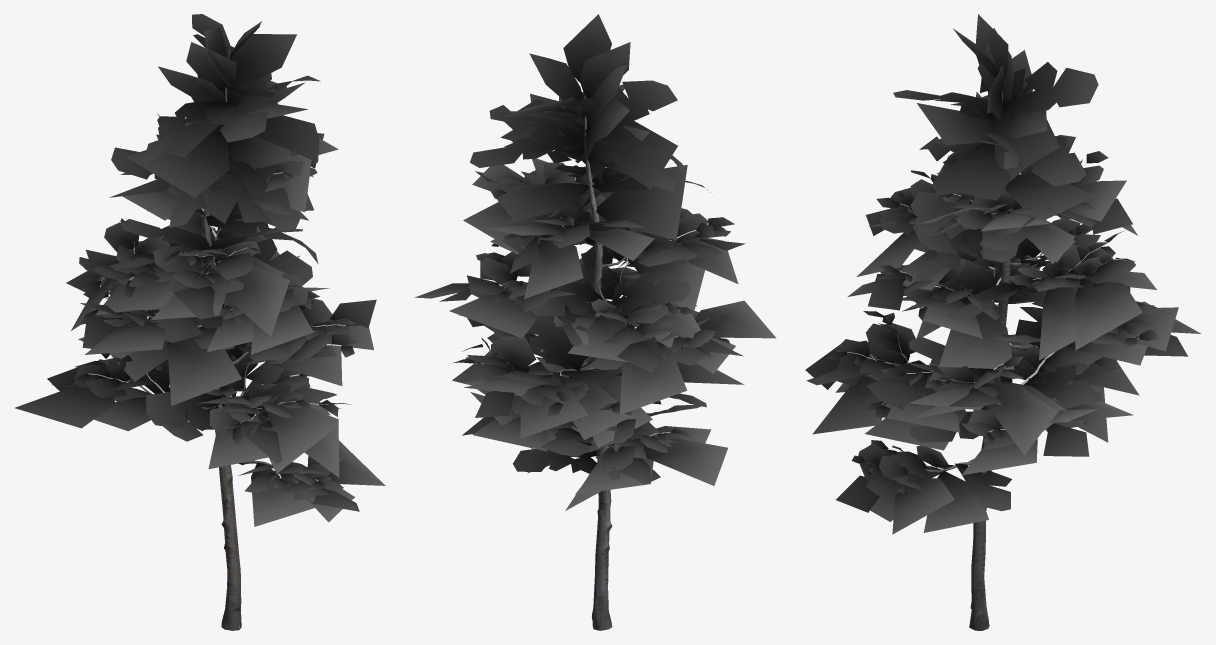
Rendered from beech_tree_01_s.FBX.
3 views of the same model, side by side, from view 1: azimuth 30°, elevation 25°; view 2: azimuth 150°, elevation 25°; view 3: azimuth 270°, elevation 25° (orthographic). The views are drawn at different scales.
Parts seen in each view (by area): view 1: beech_tree_01_leaves_LOD0, beech_tree_01_LOD0; view 2: beech_tree_01_leaves_LOD0, beech_tree_01_LOD0; view 3: beech_tree_01_leaves_LOD0, beech_tree_01_LOD0.
Boxes of the visible parts, x1,y1,x2,y2 form: beech_tree_01_leaves_LOD0: (15, 14, 385, 526); beech_tree_01_LOD0: (123, 48, 329, 630); beech_tree_01_leaves_LOD0: (415, 14, 776, 510); beech_tree_01_LOD0: (483, 94, 629, 630); beech_tree_01_leaves_LOD0: (805, 14, 1200, 534); beech_tree_01_LOD0: (887, 67, 1095, 630).
Size of what is drawn, in the model's own units: 5255 by 9884 by 5852.
